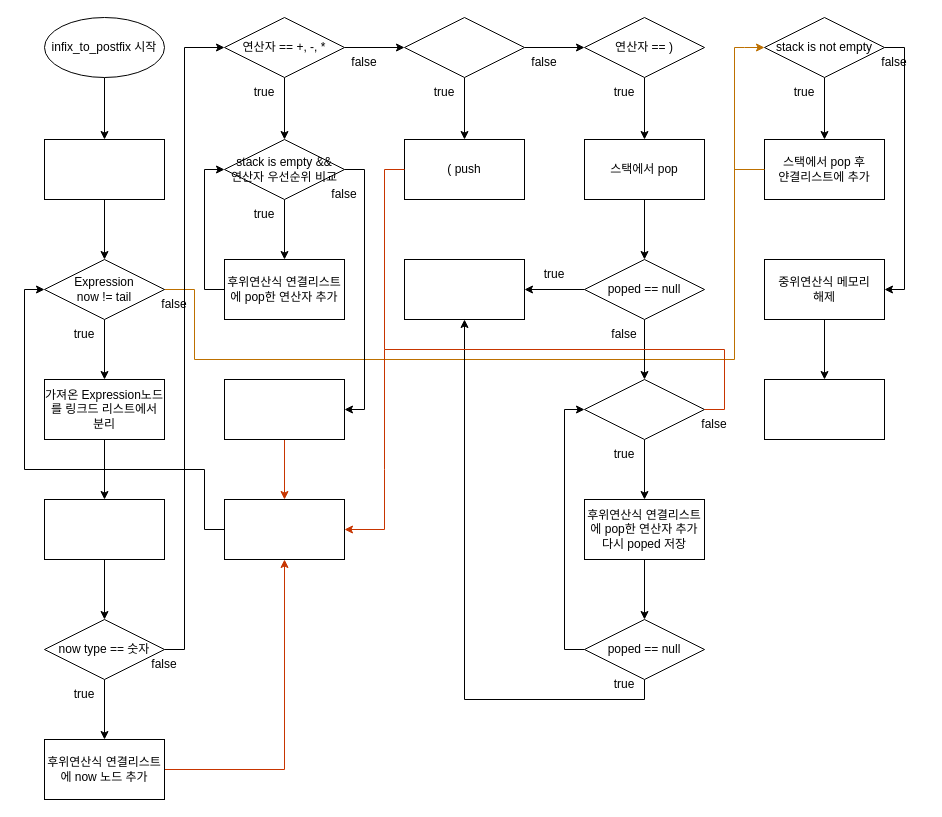
Image size: 942x817. Some labels were removed from this diagram. The shapes that lost their labels are listed below. From the top down, each one's centre as x and y in pixels, then its label:
the point at 464,47: 연산자 == (
the point at 104,169: 변수 초기화
the point at 464,289: 오류 출력 후 return NULL
the point at 284,409: now에서 가져온 연산자 push
the point at 644,409: poped != (
the point at 824,409: 후위연산식 return
the point at 104,529: now에서 연산자 가져오기
the point at 284,529: now = head->next
